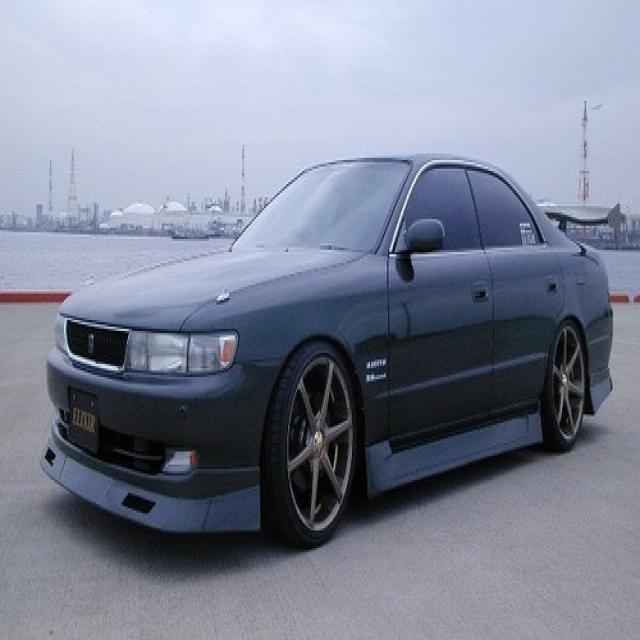car: (42, 157, 617, 556)
